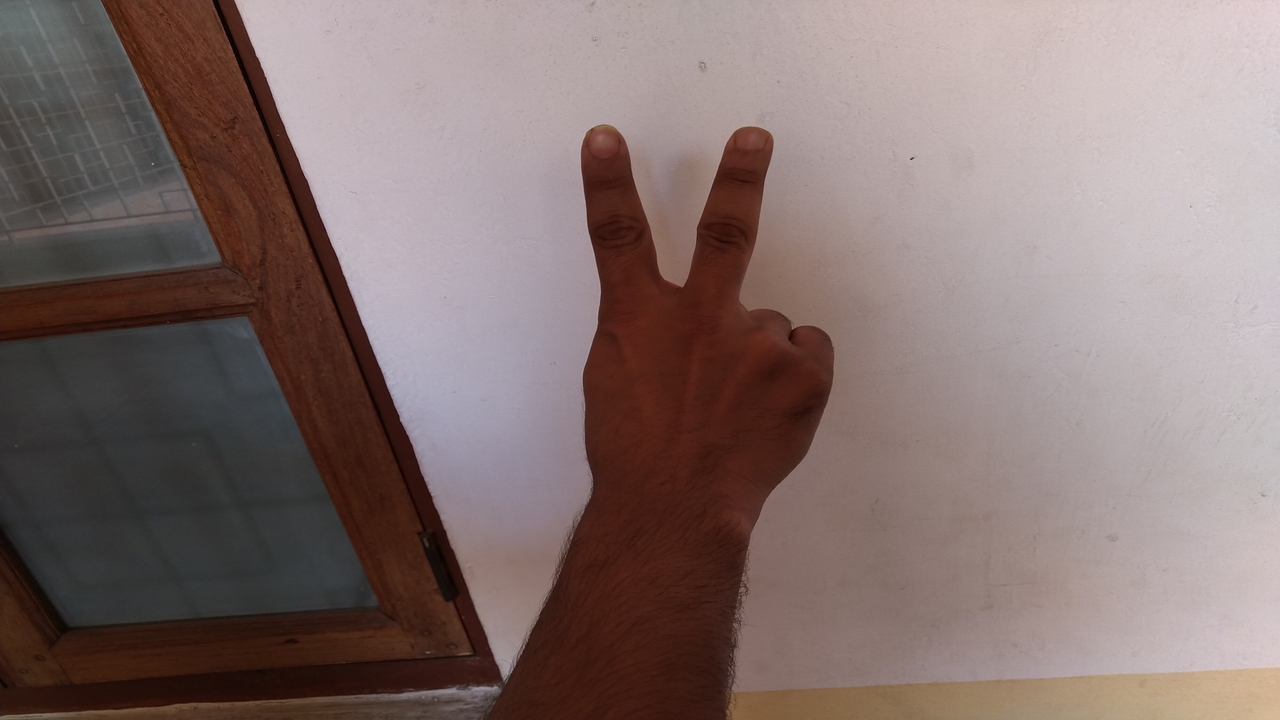fingertip: (716, 124, 778, 170), (578, 122, 634, 170)
